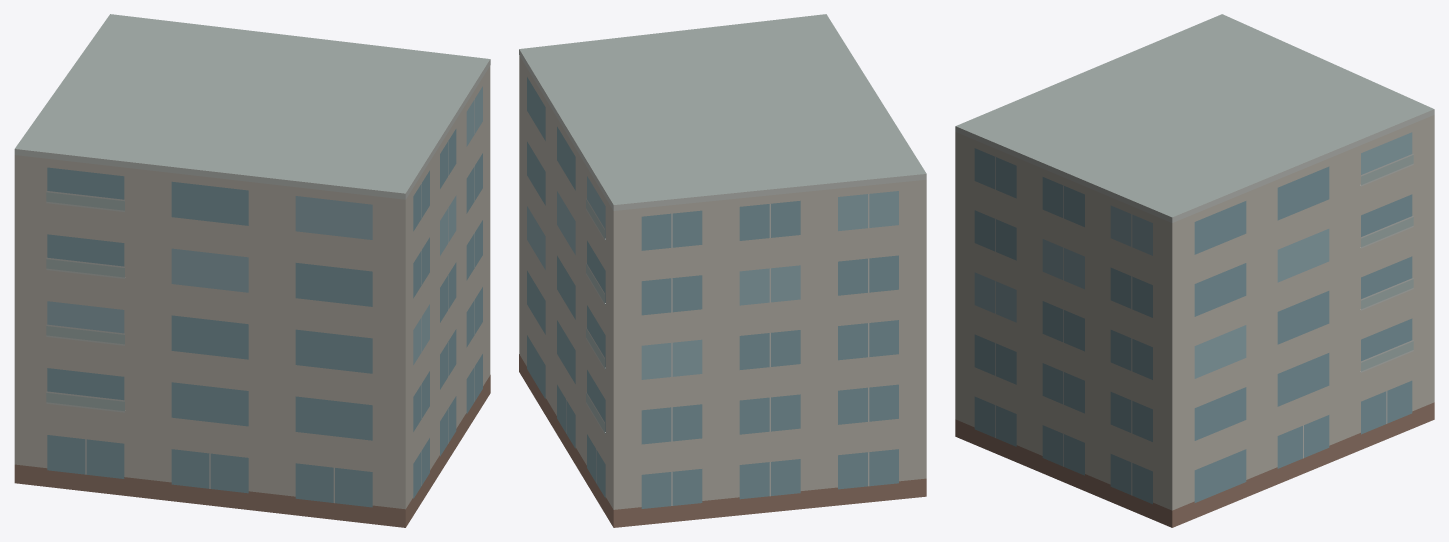
The model's file is survey-upis-32832714.glb.
3 renders of one model, left to right at view 1: azimuth 30°, elevation 25°; view 2: azimuth 150°, elevation 25°; view 3: azimuth 270°, elevation 25°, orthographic. The views are drawn at different scales.
Visible parts, largest first — view 1: survey-upis-32832714.tmp; view 2: survey-upis-32832714.tmp; view 3: survey-upis-32832714.tmp.
Boxes of the visible parts, x1=… form: survey-upis-32832714.tmp: x1=14, y1=14, x2=490, y2=527; survey-upis-32832714.tmp: x1=519, y1=14, x2=926, y2=527; survey-upis-32832714.tmp: x1=955, y1=14, x2=1434, y2=527.
Bounding box in the file's own units: 18.84 × 13.4 × 18.75.
